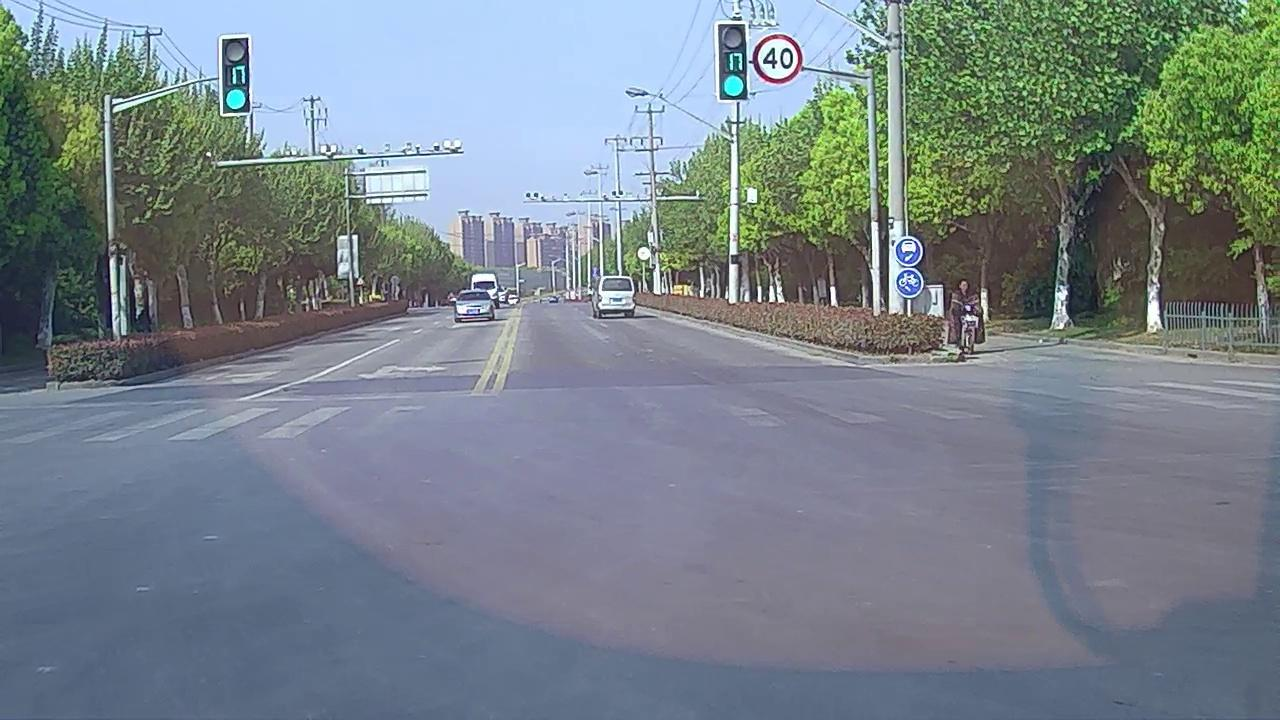traffic_light: (220, 37, 249, 114), (719, 24, 745, 99)
